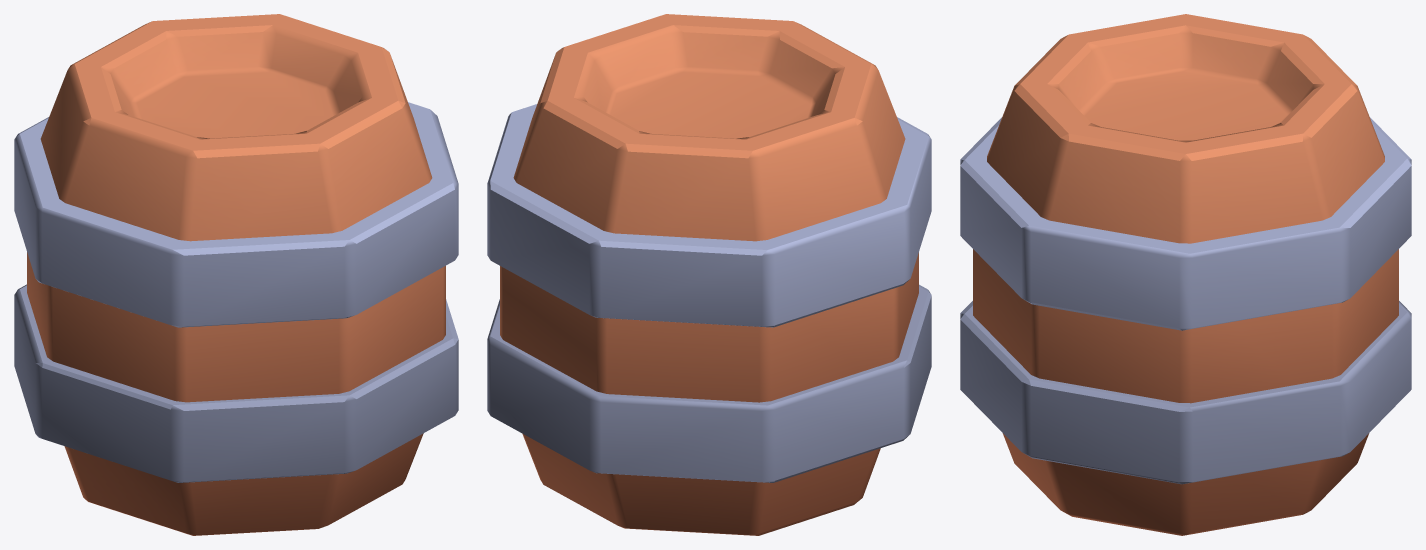
Rendered from kenney-pirate__barrel.glb.
3 renders of one model, left to right at view 1: azimuth 30°, elevation 25°; view 2: azimuth 150°, elevation 25°; view 3: azimuth 270°, elevation 25°, orthographic.
Visible parts, largest first — view 1: barrel; view 2: barrel; view 3: barrel.
Boxes of the visible parts, box(x1,y1,x2,y2) form: barrel: box(14, 14, 458, 535); barrel: box(487, 14, 931, 535); barrel: box(960, 14, 1411, 535).
Size of the model in its own units: 1.32 by 1.23 by 1.32.
Materials: 1 (1 with a texture image).
